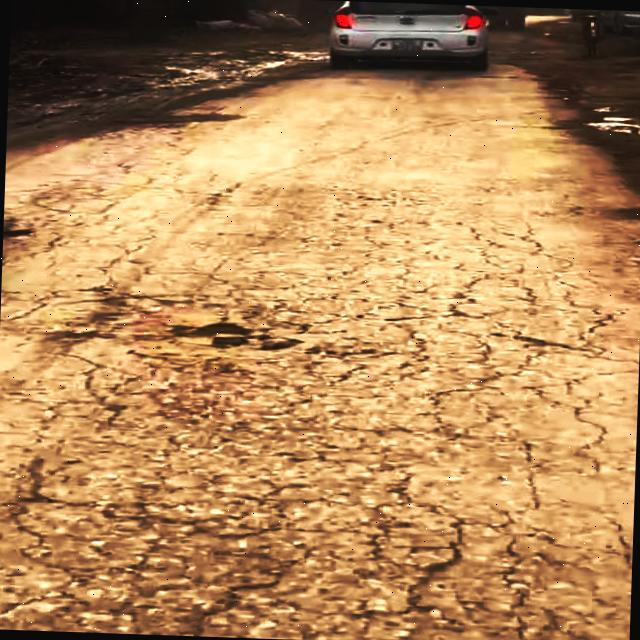pothole: (170, 317, 304, 354), (1, 222, 38, 280)
